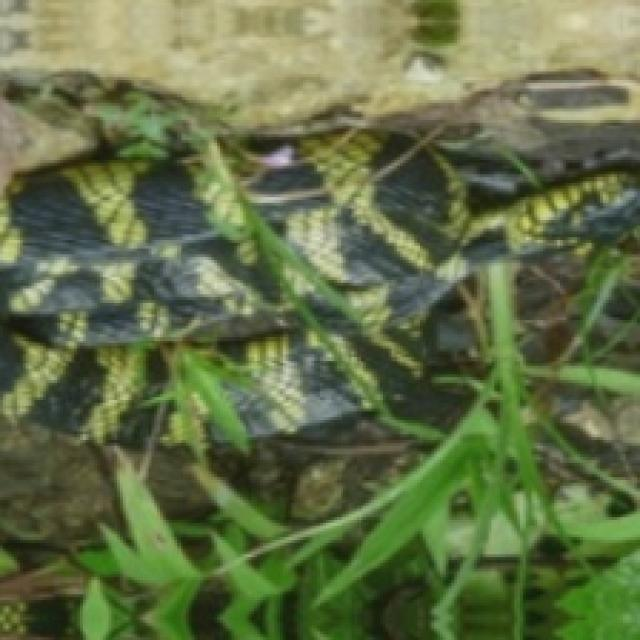mangrove cat snake: (242, 82, 640, 409), (0, 156, 371, 438)
